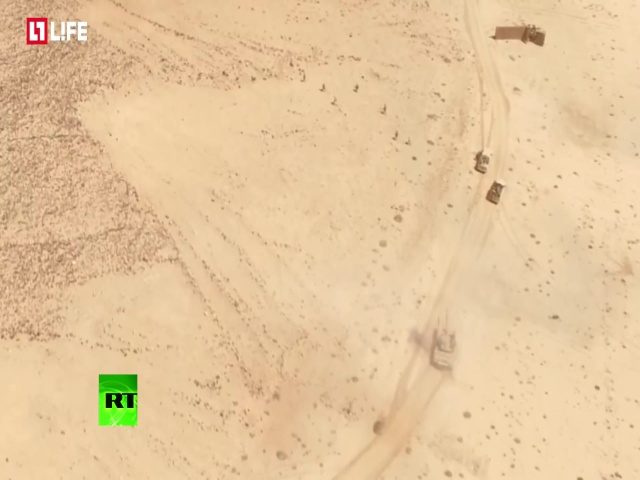vehicle: (428, 321, 462, 374), (483, 175, 508, 209), (475, 145, 494, 175)
